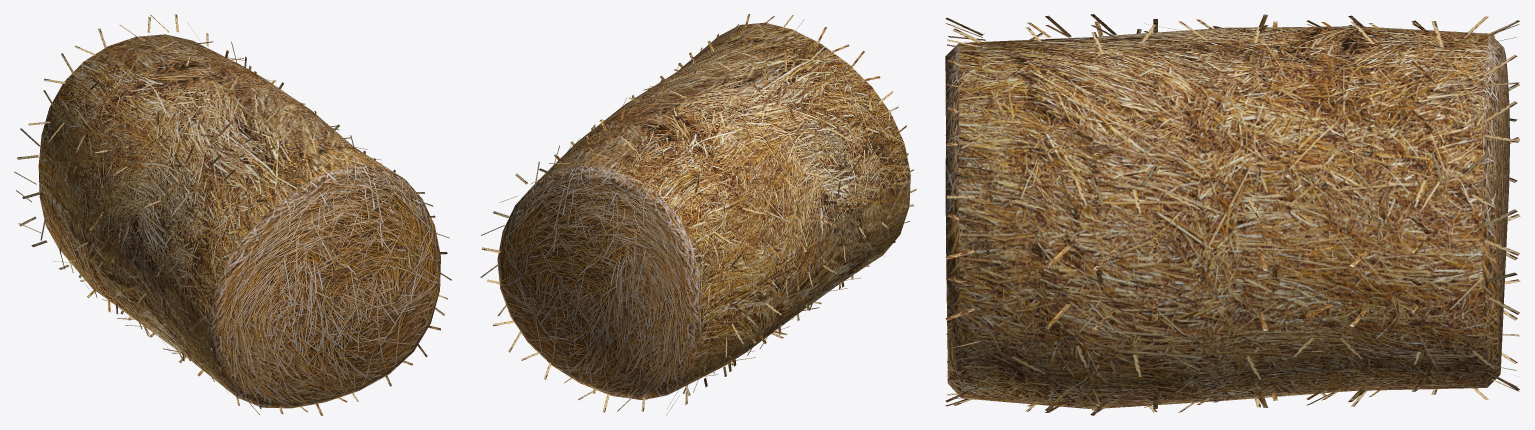
File: SM_Haystack_01.fbx
3 views of the same model, side by side, from view 1: azimuth 30°, elevation 25°; view 2: azimuth 150°, elevation 25°; view 3: azimuth 270°, elevation 25° (orthographic). The views are drawn at different scales.
Visible parts, largest first — view 1: Cylinder.005, Cube.186, Cube.187, Cube.201, Cube.193; view 2: Cylinder.005, Cube.186, Cube.187, Cube.201, Cube.193, Cube.200; view 3: Cylinder.005, Cube.198, Cube.193, Cube.187, Cube.199.
Part boxes in pixels (<box>): Cylinder.005: <box>38,34,440,408</box>; Cube.186: <box>14,90,237,318</box>; Cube.187: <box>44,16,337,225</box>; Cube.201: <box>16,190,259,414</box>; Cube.193: <box>150,14,433,206</box>; Cylinder.005: <box>497,22,910,400</box>; Cube.186: <box>697,91,913,344</box>; Cube.187: <box>592,15,880,227</box>; Cube.201: <box>666,188,916,415</box>; Cube.193: <box>499,14,774,202</box>; Cube.200: <box>578,275,853,412</box>; Cylinder.005: <box>945,26,1509,409</box>; Cube.198: <box>945,196,1519,379</box>; Cube.193: <box>945,48,1519,217</box>; Cube.187: <box>945,14,1519,54</box>; Cube.199: <box>945,365,1519,415</box>.
Bounding box in the file's own units: 221 × 214 × 312.
